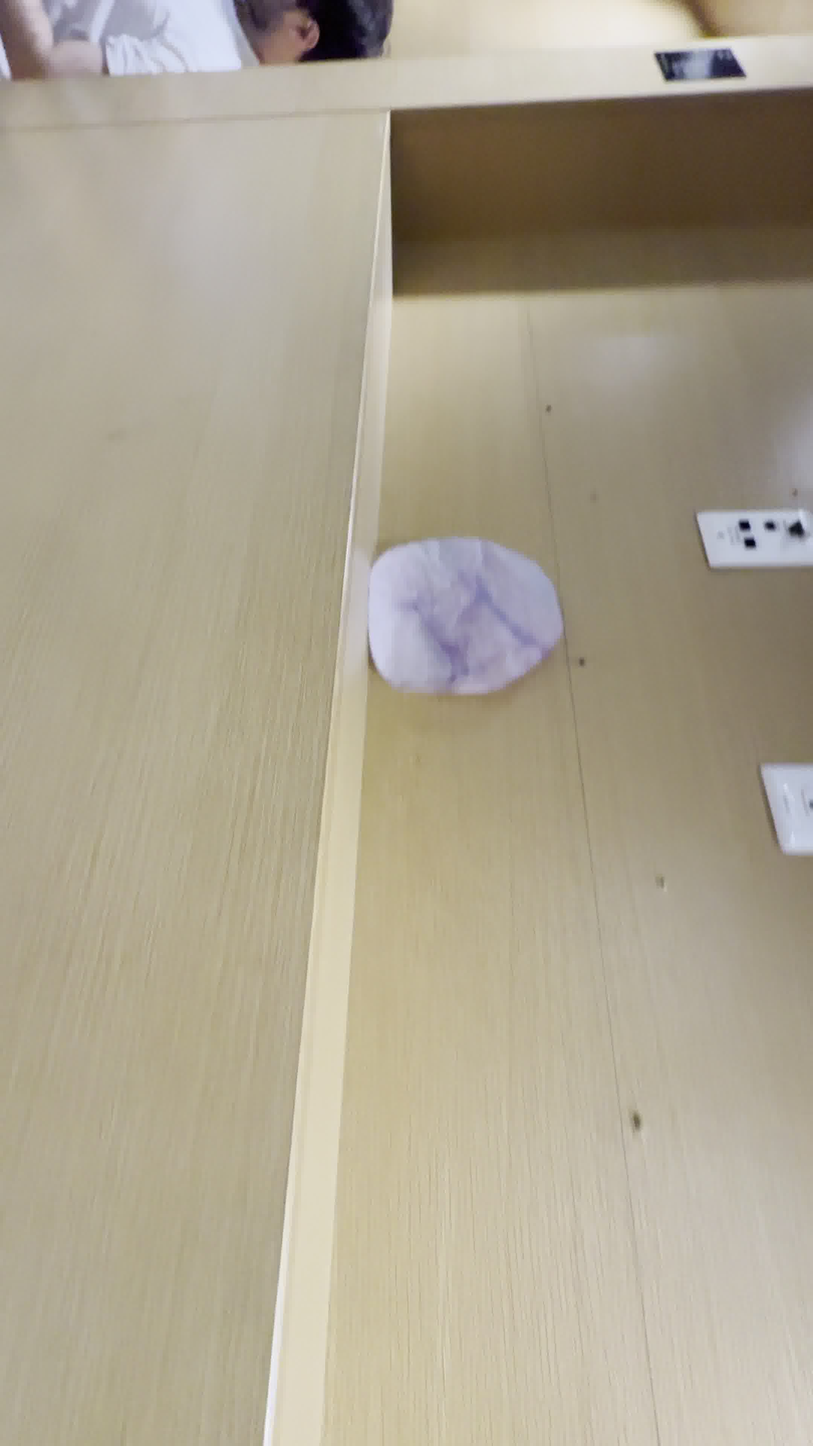Target: (368, 532, 564, 693)
